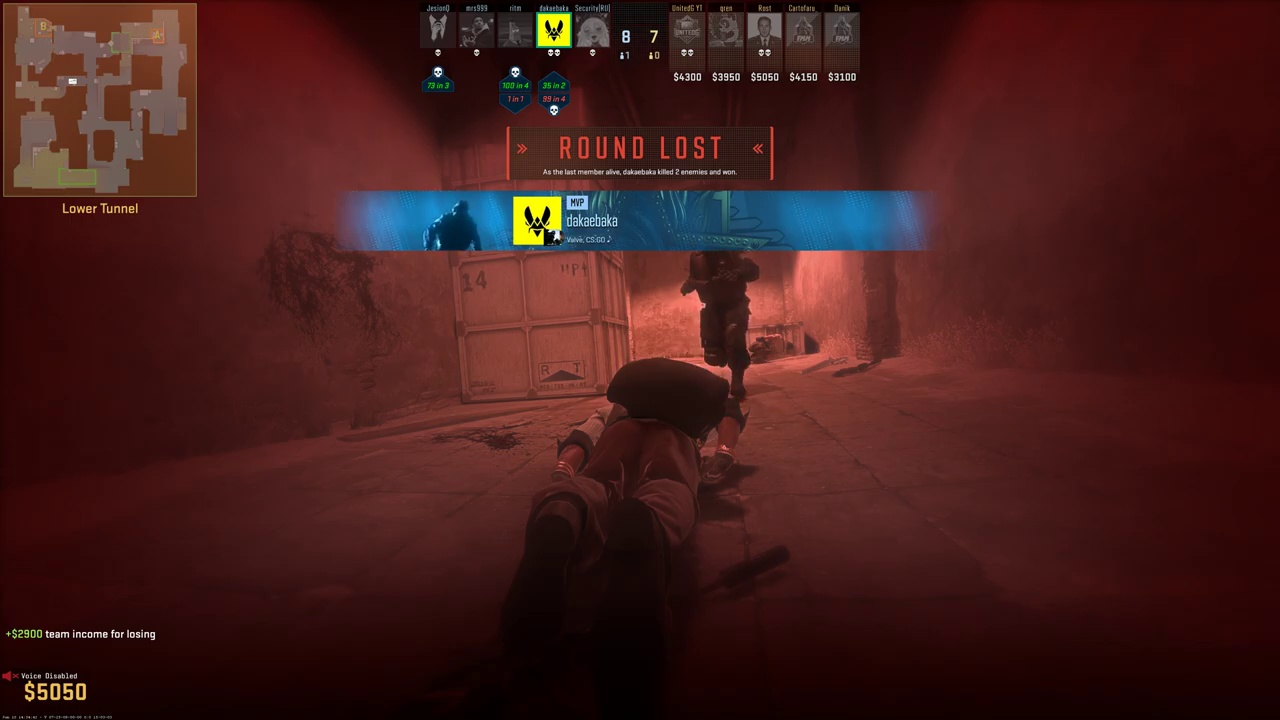CT: (691, 234, 759, 405)
